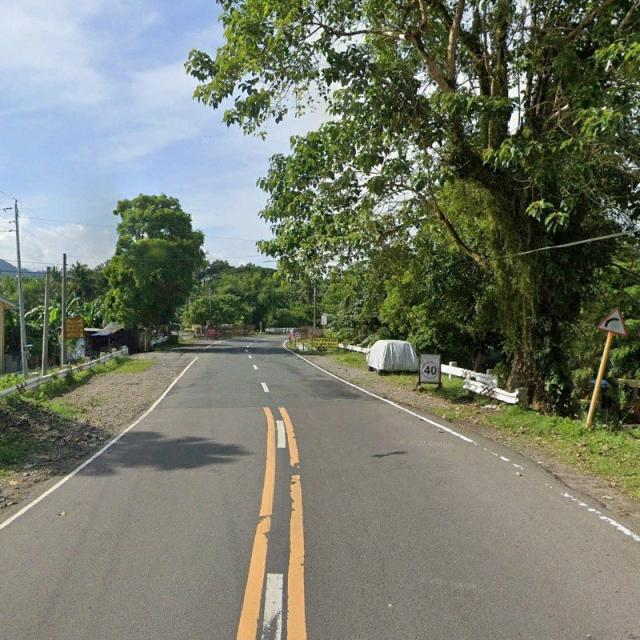warn_right_curve: (596, 307, 627, 335)
